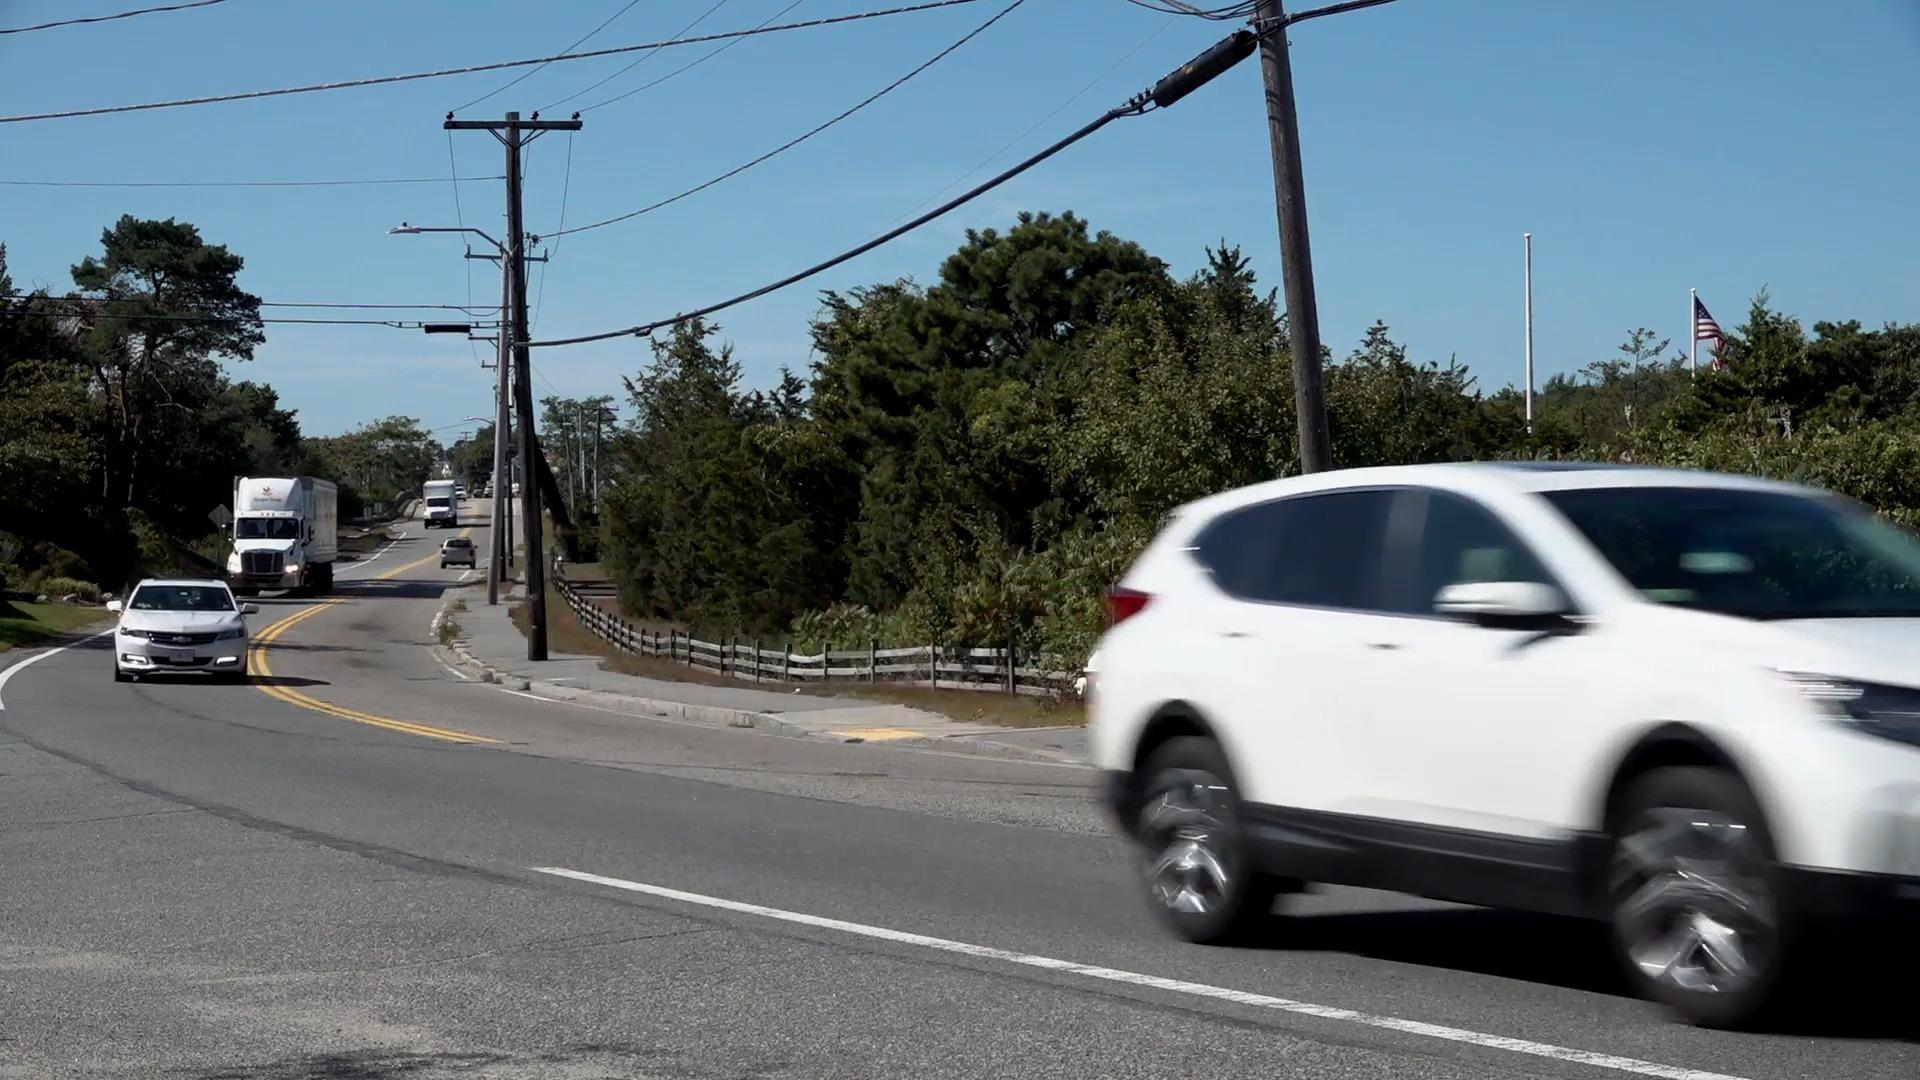sedans: (119, 580, 252, 682)
suv: (1080, 467, 1917, 1027)
truck: (232, 477, 305, 595)
